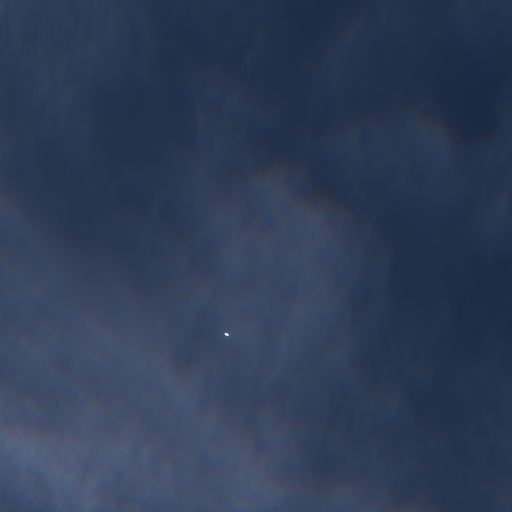Iceberg: (224, 332, 228, 335)
